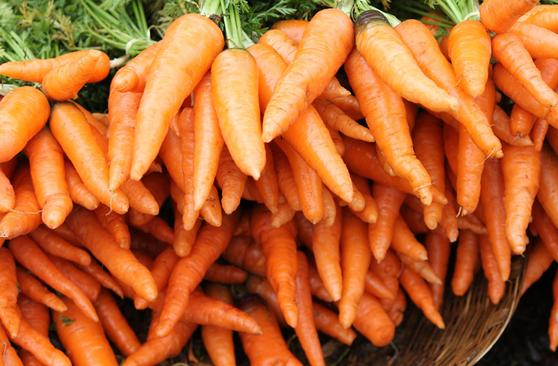carrot: (341, 52, 438, 207), (138, 16, 218, 182), (347, 18, 457, 119), (206, 49, 272, 177), (448, 15, 490, 98)
